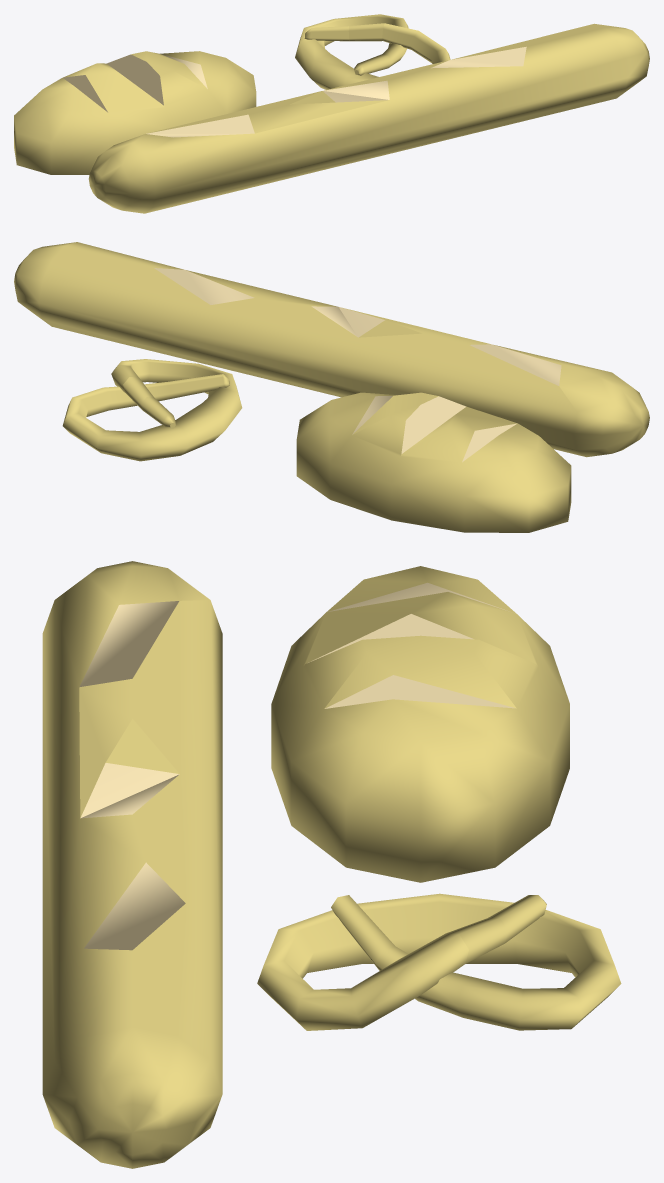
The model's file is SM_Bagvette.fbx.
The picture shows the model from 3 angles, top to bottom: view 1: azimuth 30°, elevation 25°; view 2: azimuth 150°, elevation 25°; view 3: azimuth 270°, elevation 25°; orthographic projection. The views are drawn at different scales.
Visible parts, largest first — view 1: SM_Bagvette; view 2: SM_Bagvette; view 3: SM_Bagvette.
Part boxes in pixels (x1,y1,x2,y2): SM_Bagvette: (14,14,649,213); SM_Bagvette: (14,242,649,532); SM_Bagvette: (42,561,621,1168).
Size of the model in its own units: 59.45 by 26.82 by 7.61.
1 material, 1 textured.
